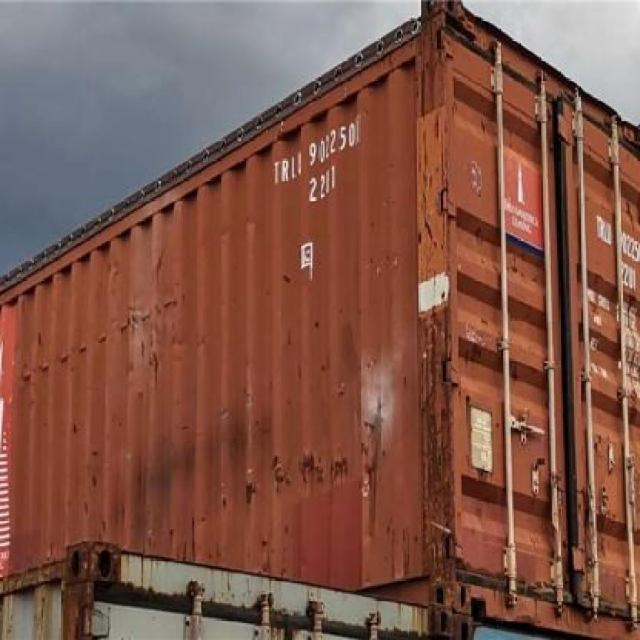Minor-Dent: (363, 389, 389, 538)
Rust: (422, 312, 456, 585), (0, 540, 120, 594), (62, 580, 96, 640), (300, 449, 325, 485), (271, 454, 292, 494), (329, 456, 349, 490), (246, 480, 257, 505), (262, 537, 268, 548), (222, 496, 226, 510)
